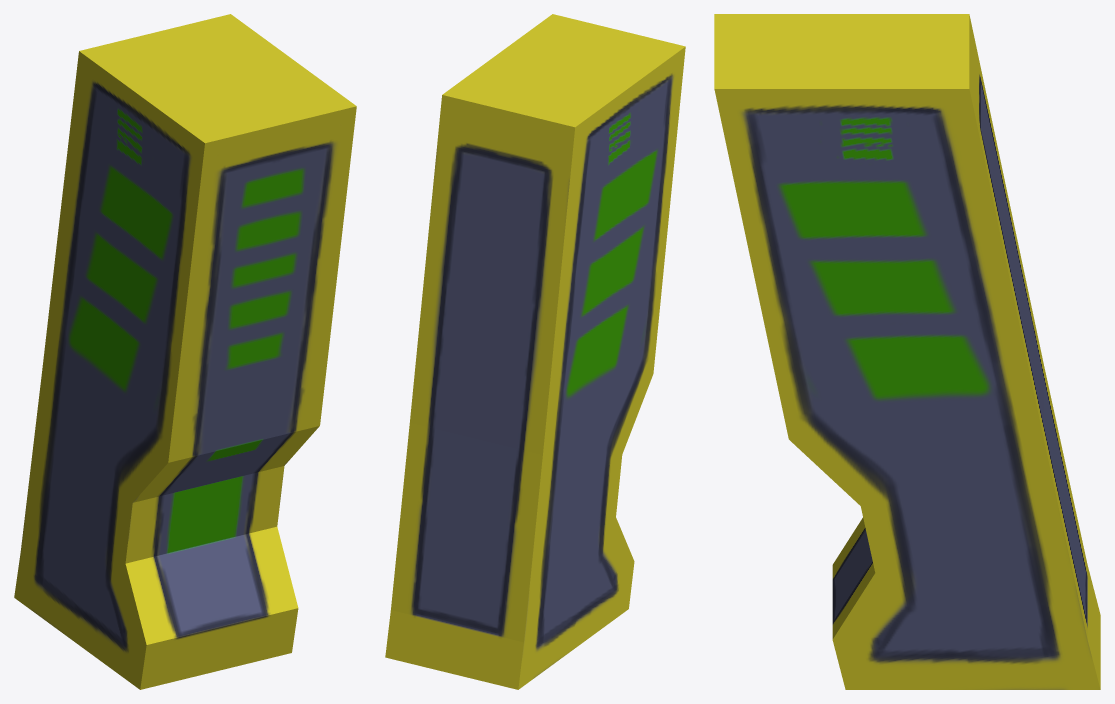
Rendered from ammo.fbx.
3 views of the same model, side by side, from view 1: azimuth 30°, elevation 25°; view 2: azimuth 150°, elevation 25°; view 3: azimuth 270°, elevation 25° (orthographic). The views are drawn at different scales.
Visible parts, largest first — view 1: ammo; view 2: ammo; view 3: ammo.
Part boxes in pixels (box(x1,y1,x2,y2)): ammo: box(14, 14, 356, 689); ammo: box(385, 14, 685, 689); ammo: box(714, 14, 1100, 689).
Size of the model in its own units: 16.78 by 62.78 by 36.57.
